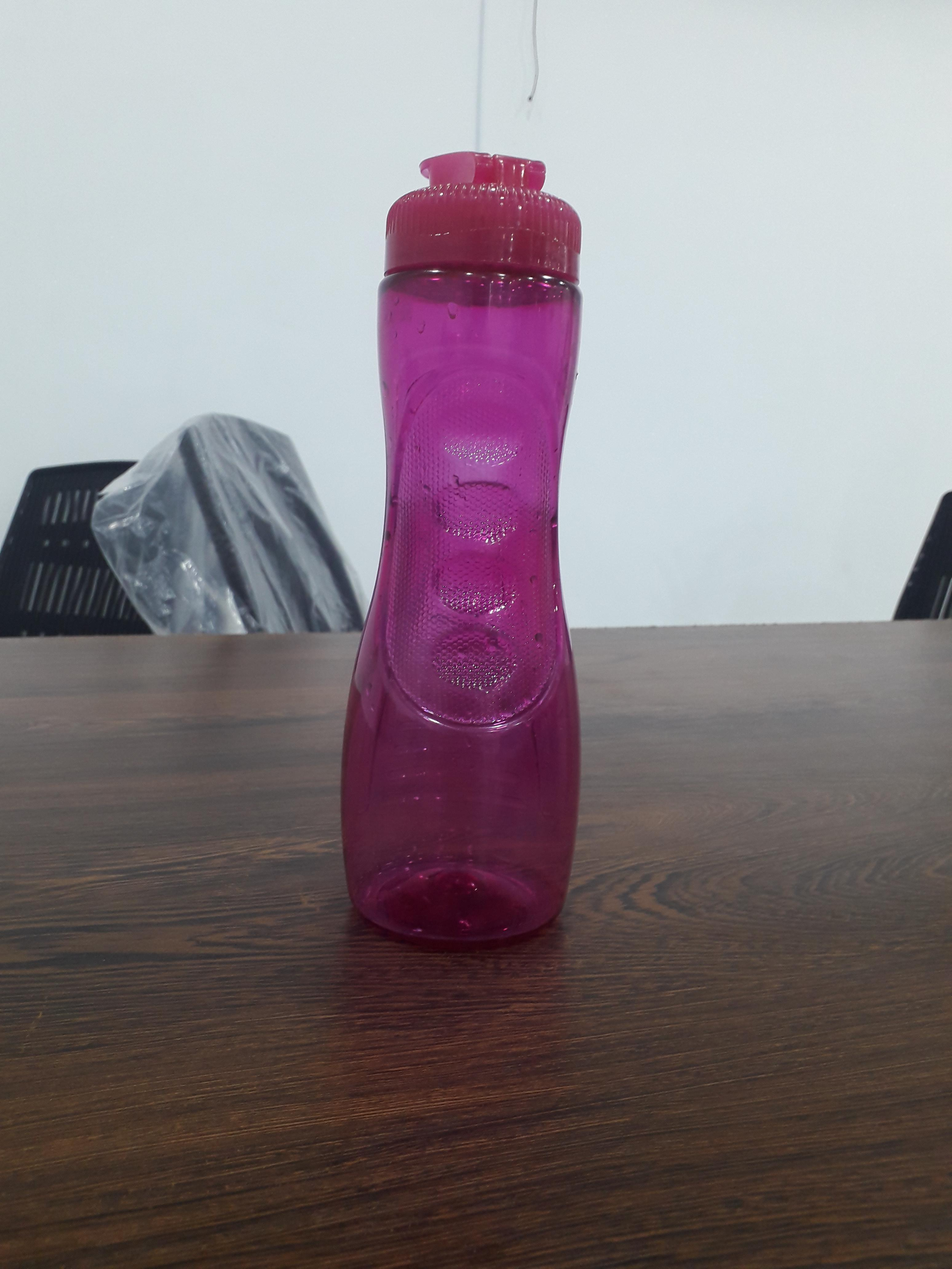gym bottle: (331, 140, 593, 959)
